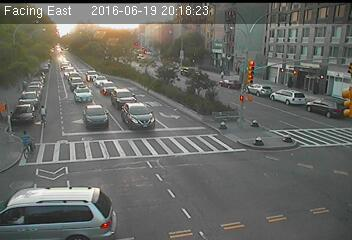neg: (15, 127, 39, 159), (201, 166, 225, 197), (166, 38, 189, 69), (153, 194, 176, 225), (71, 129, 93, 159), (106, 102, 126, 129), (232, 55, 251, 81), (293, 96, 312, 121), (250, 183, 269, 208), (163, 127, 181, 151), (41, 64, 58, 87), (56, 37, 73, 60), (129, 156, 145, 178), (98, 33, 114, 54), (191, 82, 206, 102), (123, 80, 138, 100), (283, 64, 298, 83), (69, 179, 83, 198), (281, 132, 294, 150), (254, 133, 266, 149), (217, 119, 229, 134)
